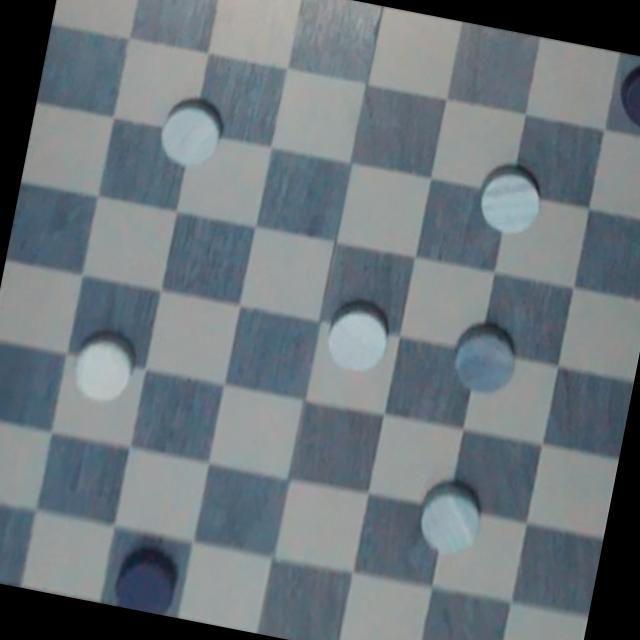BOARD: (0, 0, 640, 640)
black: (107, 534, 186, 617), (613, 59, 640, 139)
white: (60, 314, 154, 421), (403, 466, 498, 568), (310, 288, 402, 388), (443, 310, 530, 411), (469, 157, 554, 247), (152, 90, 236, 178)
